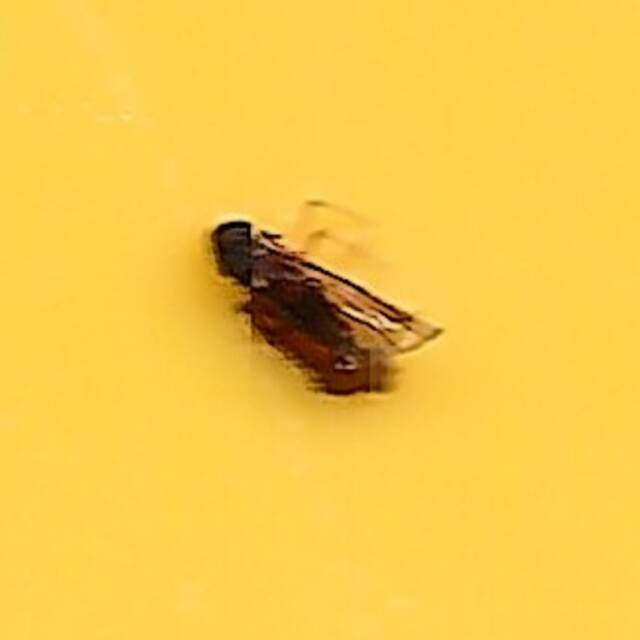Hemiptera: (196, 213, 444, 427)
